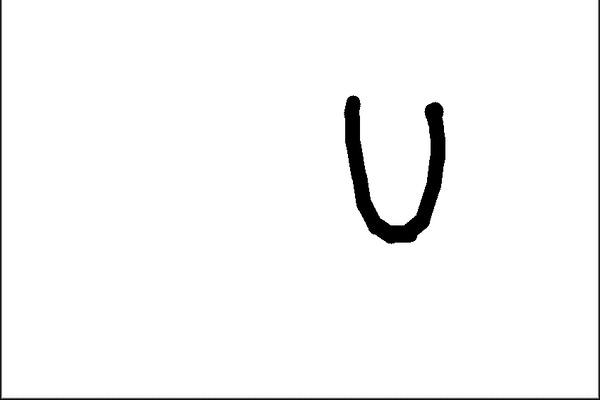U: (334, 96, 474, 250)
